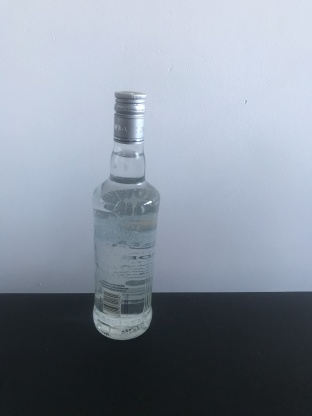nakretka: (111, 91, 147, 145)
